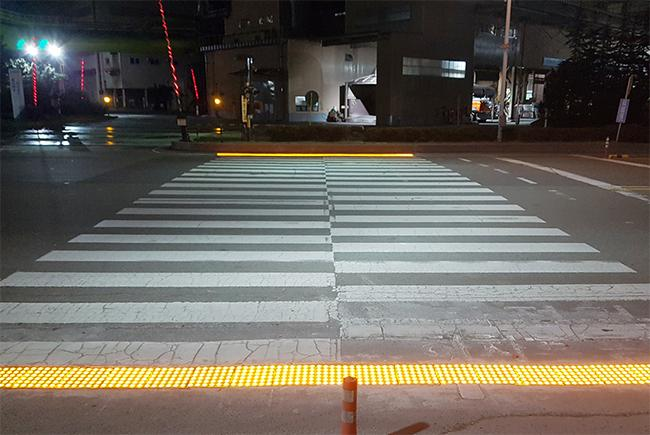crosswalk: (2, 147, 650, 375)
